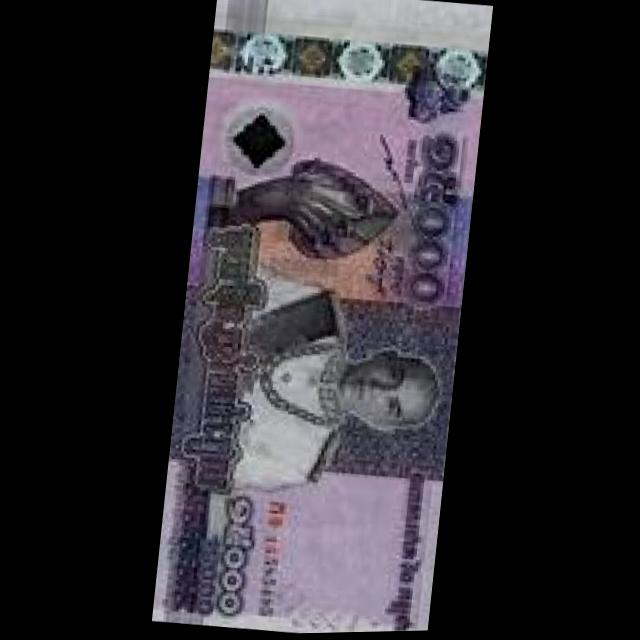banknote: (153, 0, 490, 637)
